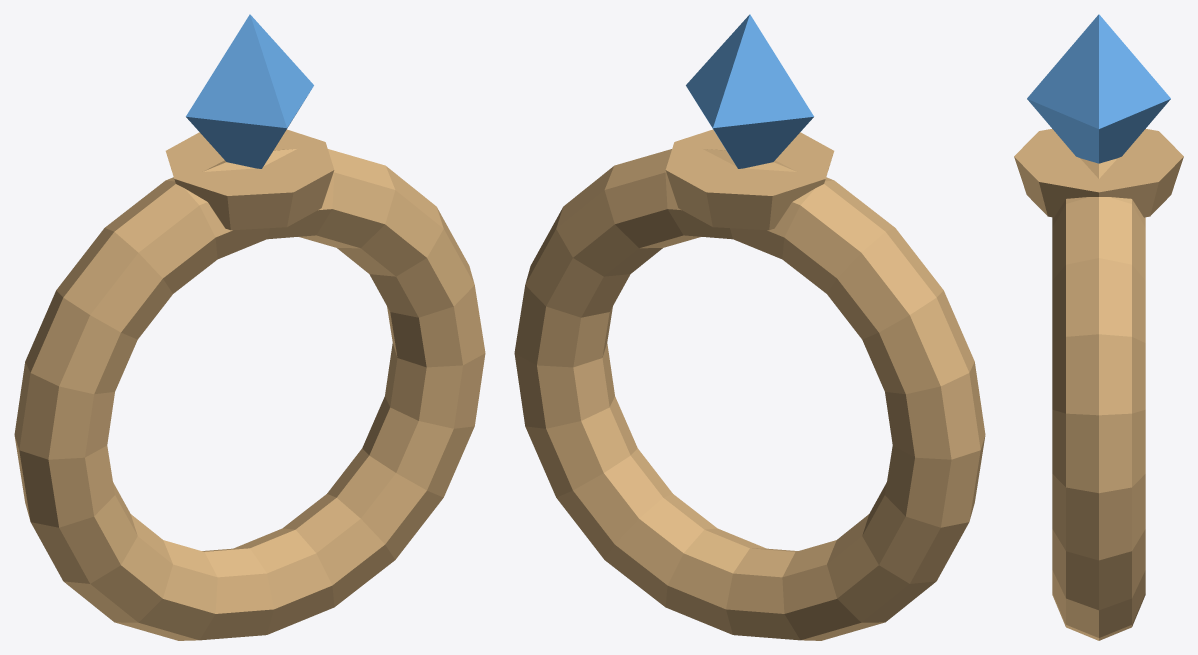
Rendered from ring-bronze.glb.
3 views of the same model, side by side, from view 1: azimuth 30°, elevation 25°; view 2: azimuth 150°, elevation 25°; view 3: azimuth 270°, elevation 25° (orthographic). The views are drawn at different scales.
Size of the model in its own units: 1.22 by 1.57 by 0.4.
